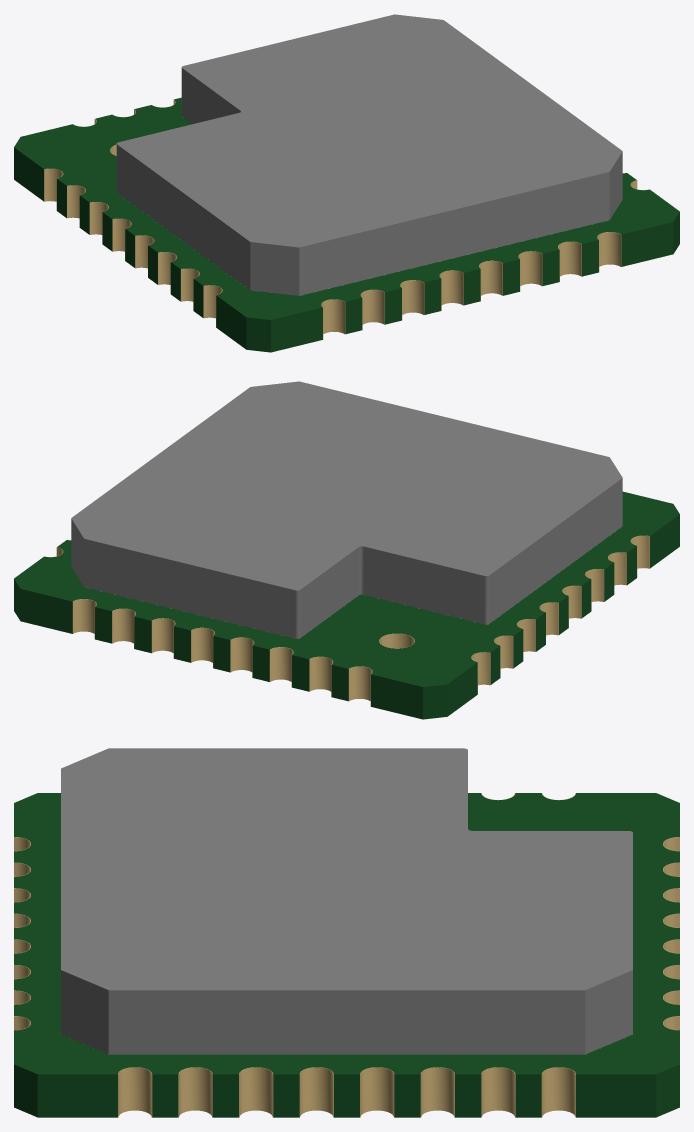
The model's file is kc-monowireless_twe-l-wx.glb.
3 renders of one model, top to bottom at view 1: azimuth 30°, elevation 25°; view 2: azimuth 150°, elevation 25°; view 3: azimuth 270°, elevation 25°, orthographic. The views are drawn at different scales.
Visible parts, largest first — view 1: 0.25_0.25_0.25_0, 0_0.08333333333333333_0_0, 0.75_0.5_0.25_0.9; view 2: 0.25_0.25_0.25_0, 0_0.08333333333333333_0_0, 0.75_0.5_0.25_0.9; view 3: 0.25_0.25_0.25_0, 0_0.08333333333333333_0_0, 0.75_0.5_0.25_0.9.
Boxes of the visible parts, x1,y1,x2,y2 form: 0.25_0.25_0.25_0: [116, 14, 622, 295]; 0_0.08333333333333333_0_0: [14, 97, 679, 352]; 0.75_0.5_0.25_0.9: [44, 99, 649, 339]; 0.25_0.25_0.25_0: [71, 381, 622, 638]; 0_0.08333333333333333_0_0: [14, 491, 679, 719]; 0.75_0.5_0.25_0.9: [44, 535, 649, 706]; 0.25_0.25_0.25_0: [61, 748, 632, 1054]; 0_0.08333333333333333_0_0: [14, 793, 679, 1117]; 0.75_0.5_0.25_0.9: [14, 793, 679, 1117].
Size of the model in its own units: 1.4 by 0.249 by 1.4.
